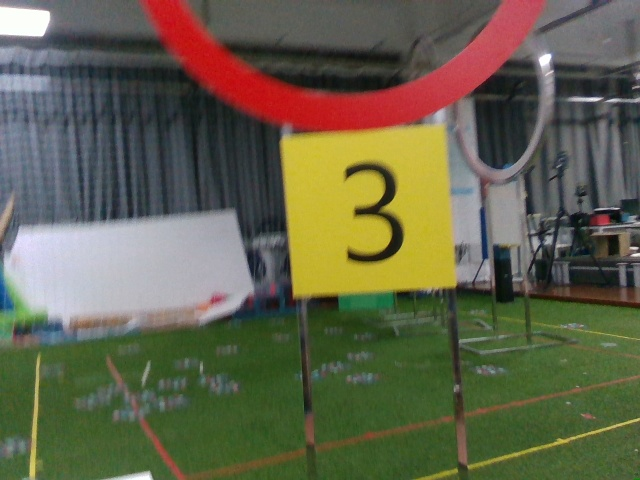target: (287, 136, 449, 285)
